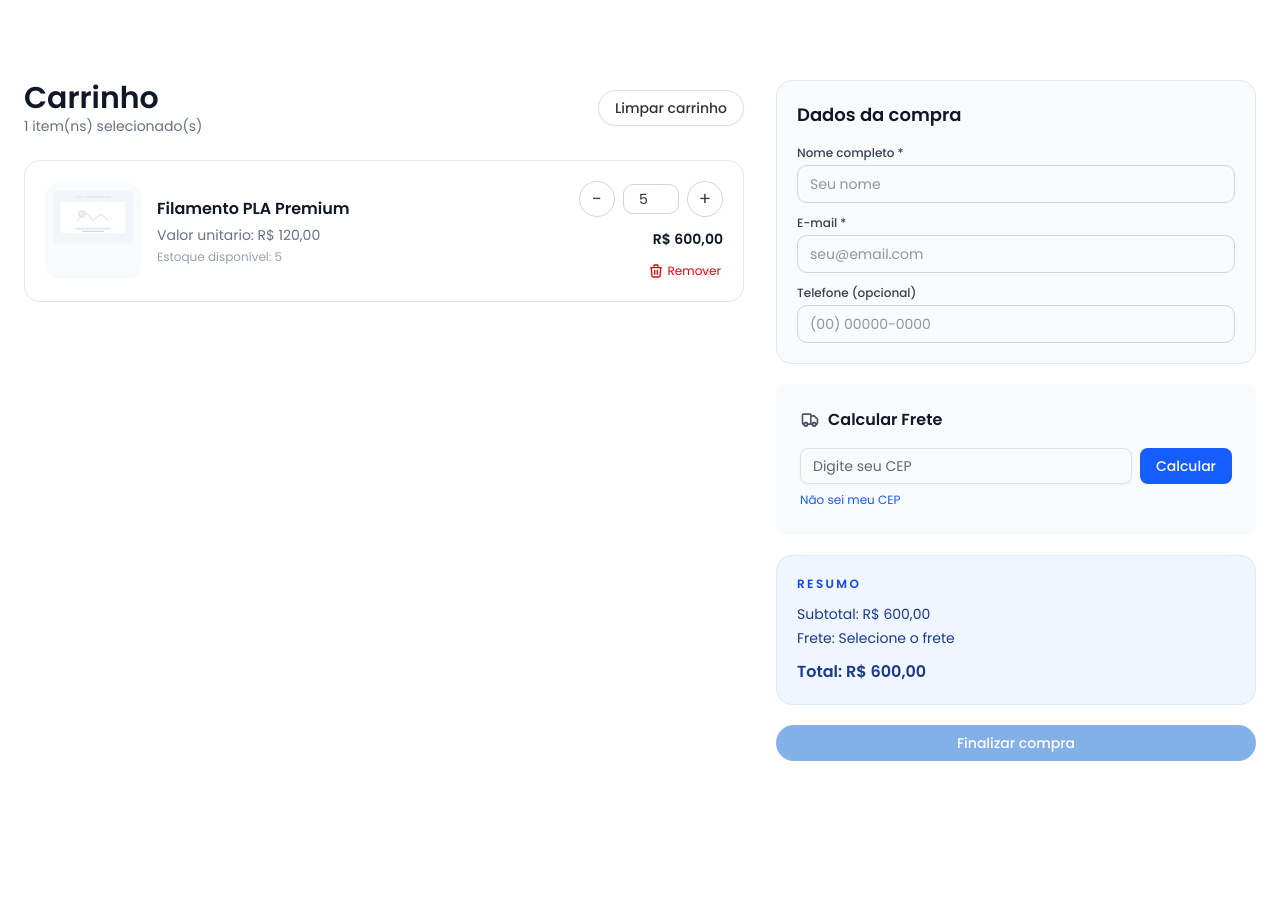
Test: CarrinhoPage (Cart UI & Integration) › deve bloquear incremento se exceder estoque e mostrar banner de erro
# Clica para aumentar além do estoque
Click the button named "Aumentar quantidade de Filamento PLA Premium" at (705, 199), box [687,181,723,217]
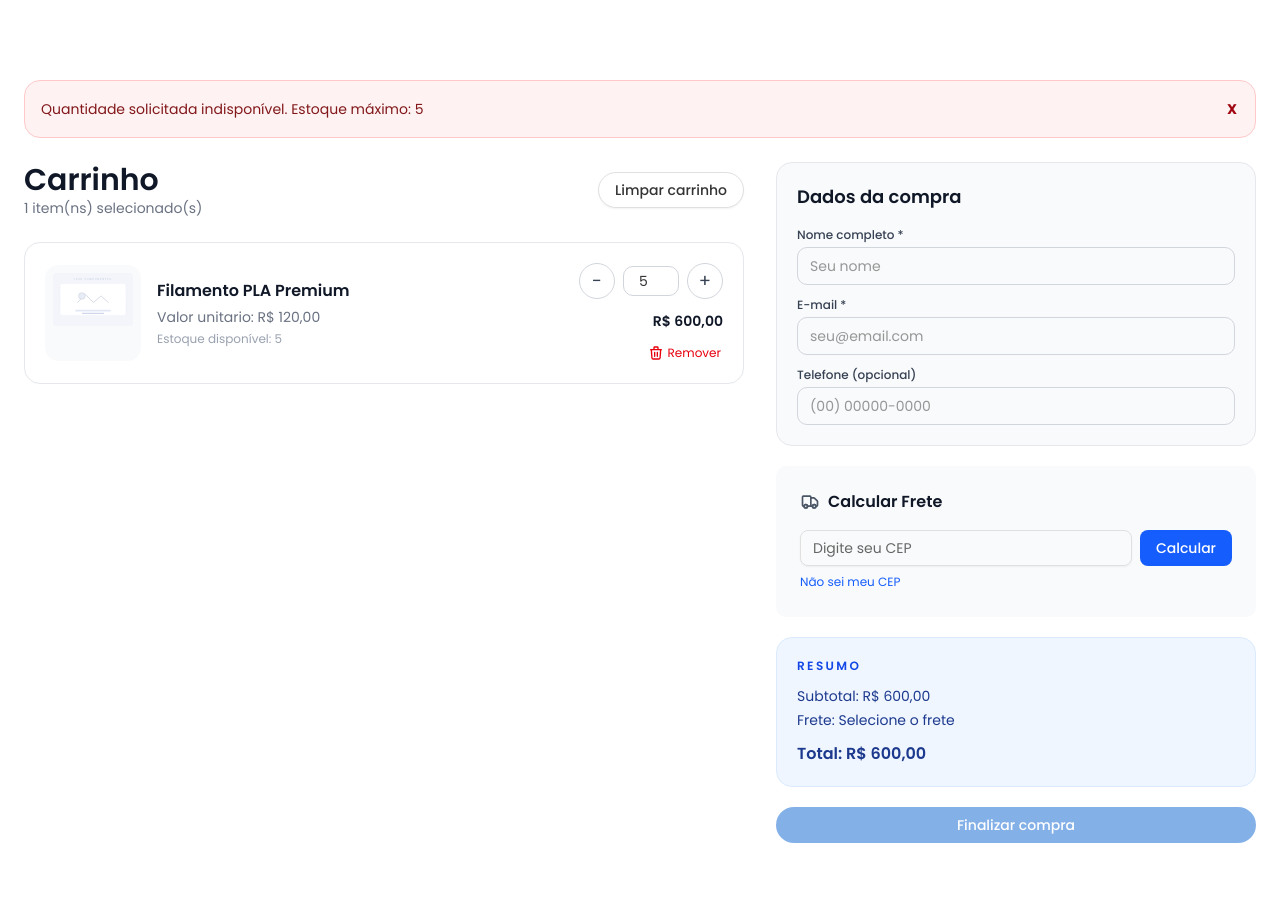
Expected: the number field named "Quantidade de Filamento PLA Premium" holds "5", [623,266,679,296]
Expected: the text "Quantidade solicitada indisponível. Estoque máximo: 5" is shown, [41,99,424,119]
